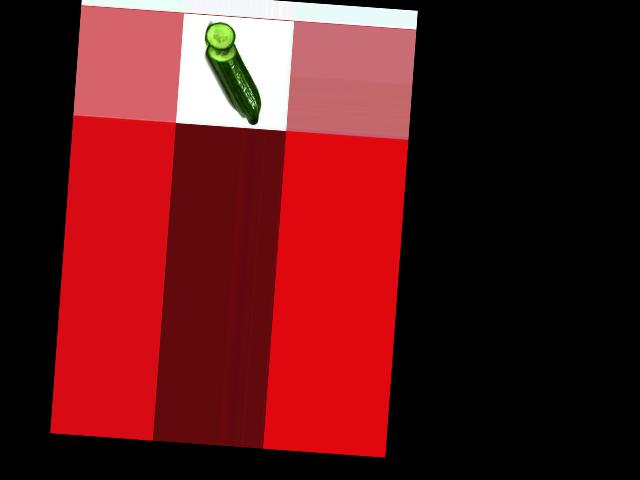cucumber: (201, 40, 264, 125)
